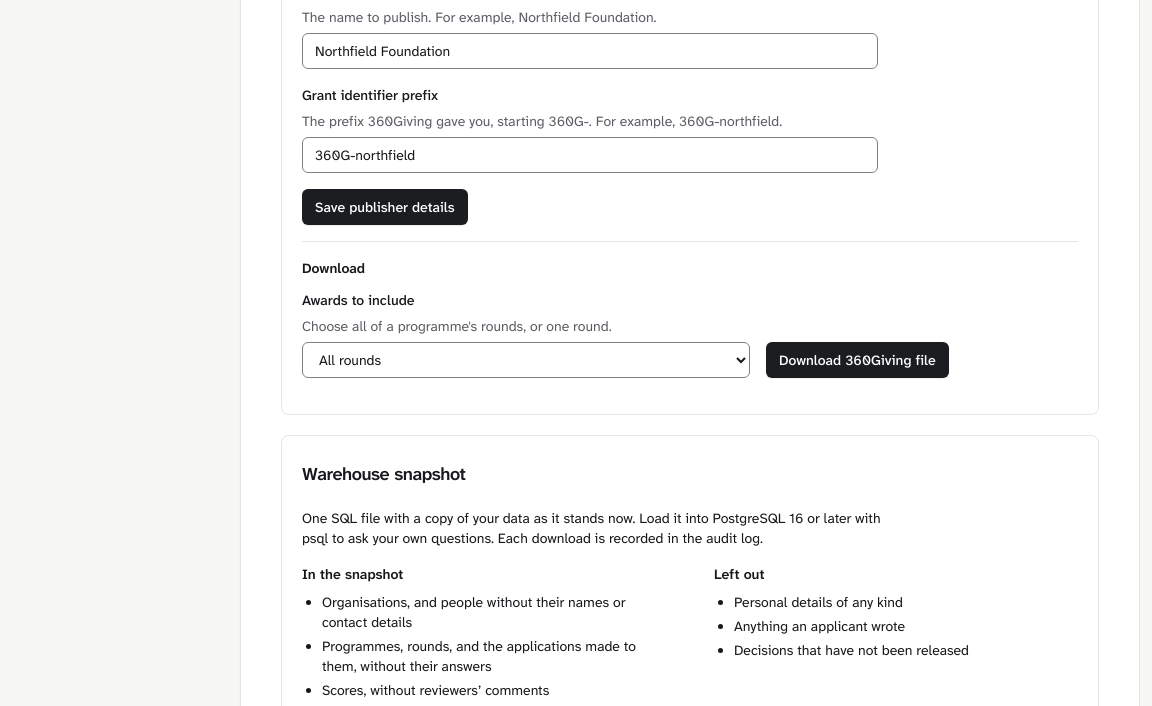
Scenario: the 360Giving file › asks for a whole programme when it is chosen, and saves nothing when no award is released
(page scrolled)
Click the button "Download 360Giving file": (857, 360) top-left (766, 342), bottom-right (949, 378)
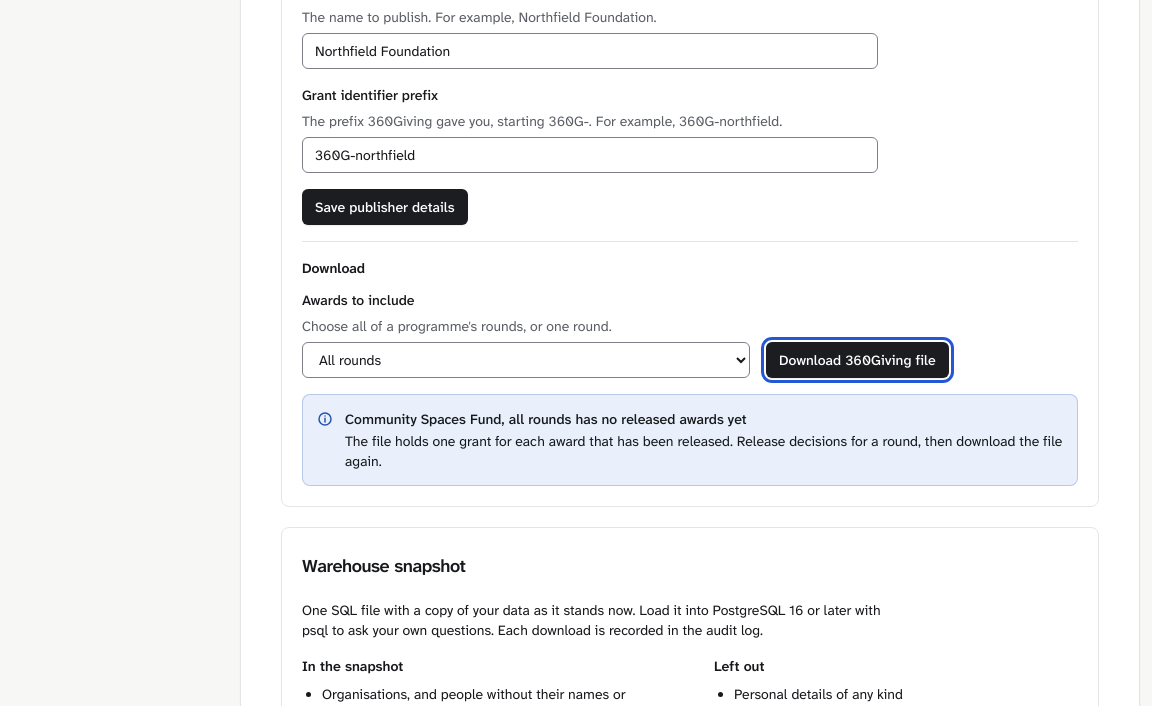
Expected: the text "Community Spaces Fund, all rounds has no released awards yet" is shown, top-left (345, 410), bottom-right (747, 428)
Expected: the text "Release decisions for a round" is shown, top-left (345, 432), bottom-right (1062, 470)
